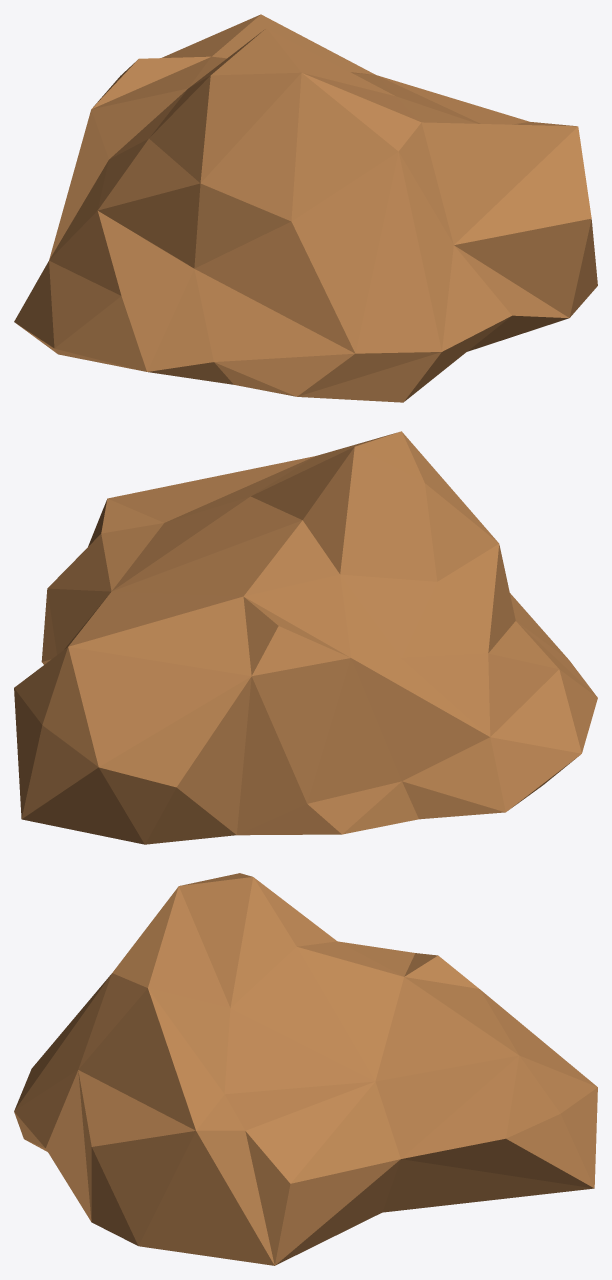
Rendered from RockSand_01.glb.
The picture shows the model from 3 angles, top to bottom: view 1: azimuth 30°, elevation 25°; view 2: azimuth 150°, elevation 25°; view 3: azimuth 270°, elevation 25°; orthographic projection. The views are drawn at different scales.
Visible parts, largest first — view 1: RockSand_01; view 2: RockSand_01; view 3: RockSand_01.
Boxes of the visible parts, <box> form: RockSand_01: <box>14,14,597,402</box>; RockSand_01: <box>14,431,597,844</box>; RockSand_01: <box>14,873,597,1265</box>.
Size of what is drawn, in the model's own units: 2.68 by 1.4 by 2.86.
Materials: 1 (1 with a texture image).
